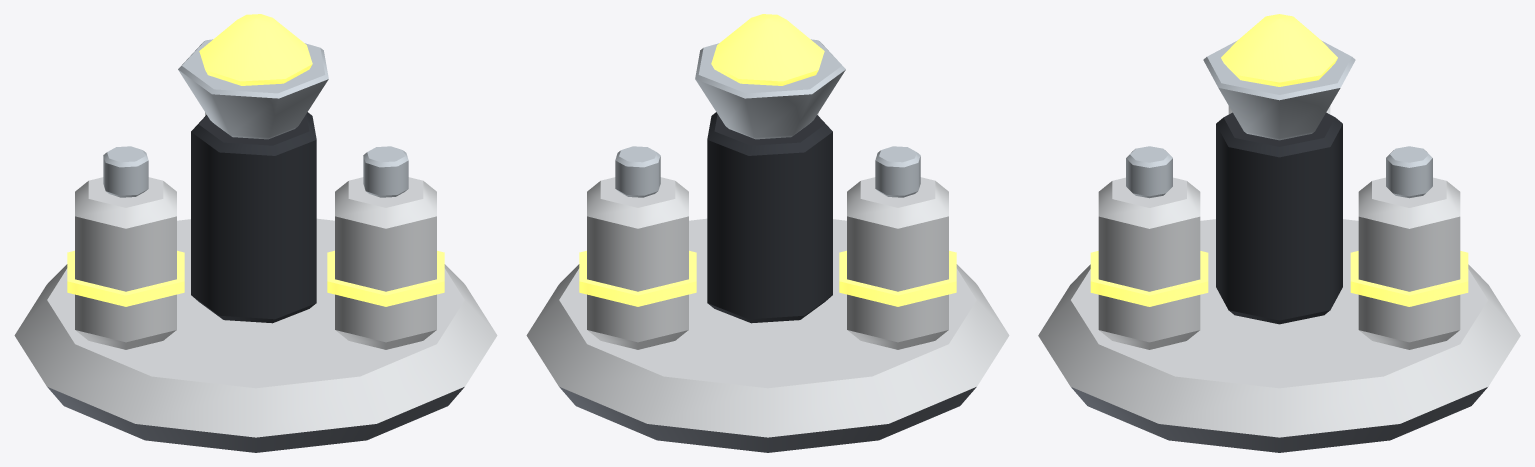
File: R4D_BurnTrap_LOD1.fbx
3 renders of one model, left to right at view 1: azimuth 30°, elevation 25°; view 2: azimuth 150°, elevation 25°; view 3: azimuth 270°, elevation 25°, orthographic.
Parts seen in each view (by area): view 1: R4D_BurnTrap_LOD1; view 2: R4D_BurnTrap_LOD1; view 3: R4D_BurnTrap_LOD1.
Boxes of the visible parts, box(x1,y1,x2,y2) form: R4D_BurnTrap_LOD1: box(14, 14, 497, 452); R4D_BurnTrap_LOD1: box(526, 14, 1009, 452); R4D_BurnTrap_LOD1: box(1038, 14, 1520, 452).
Bounding box in the file's own units: 0.37 × 0.288 × 0.37.
